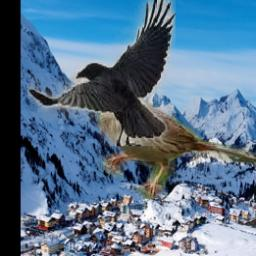Crow: (28, 0, 177, 146)
Sparrow: (94, 81, 256, 199)
